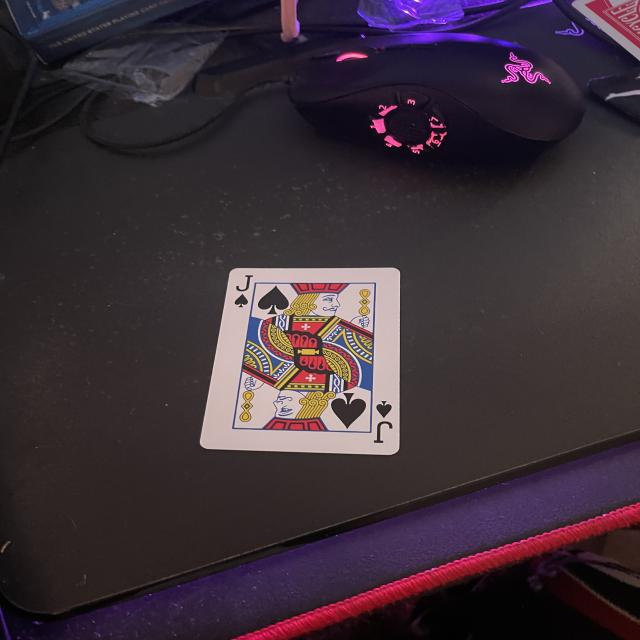Jack of spades: (197, 269, 402, 457)
